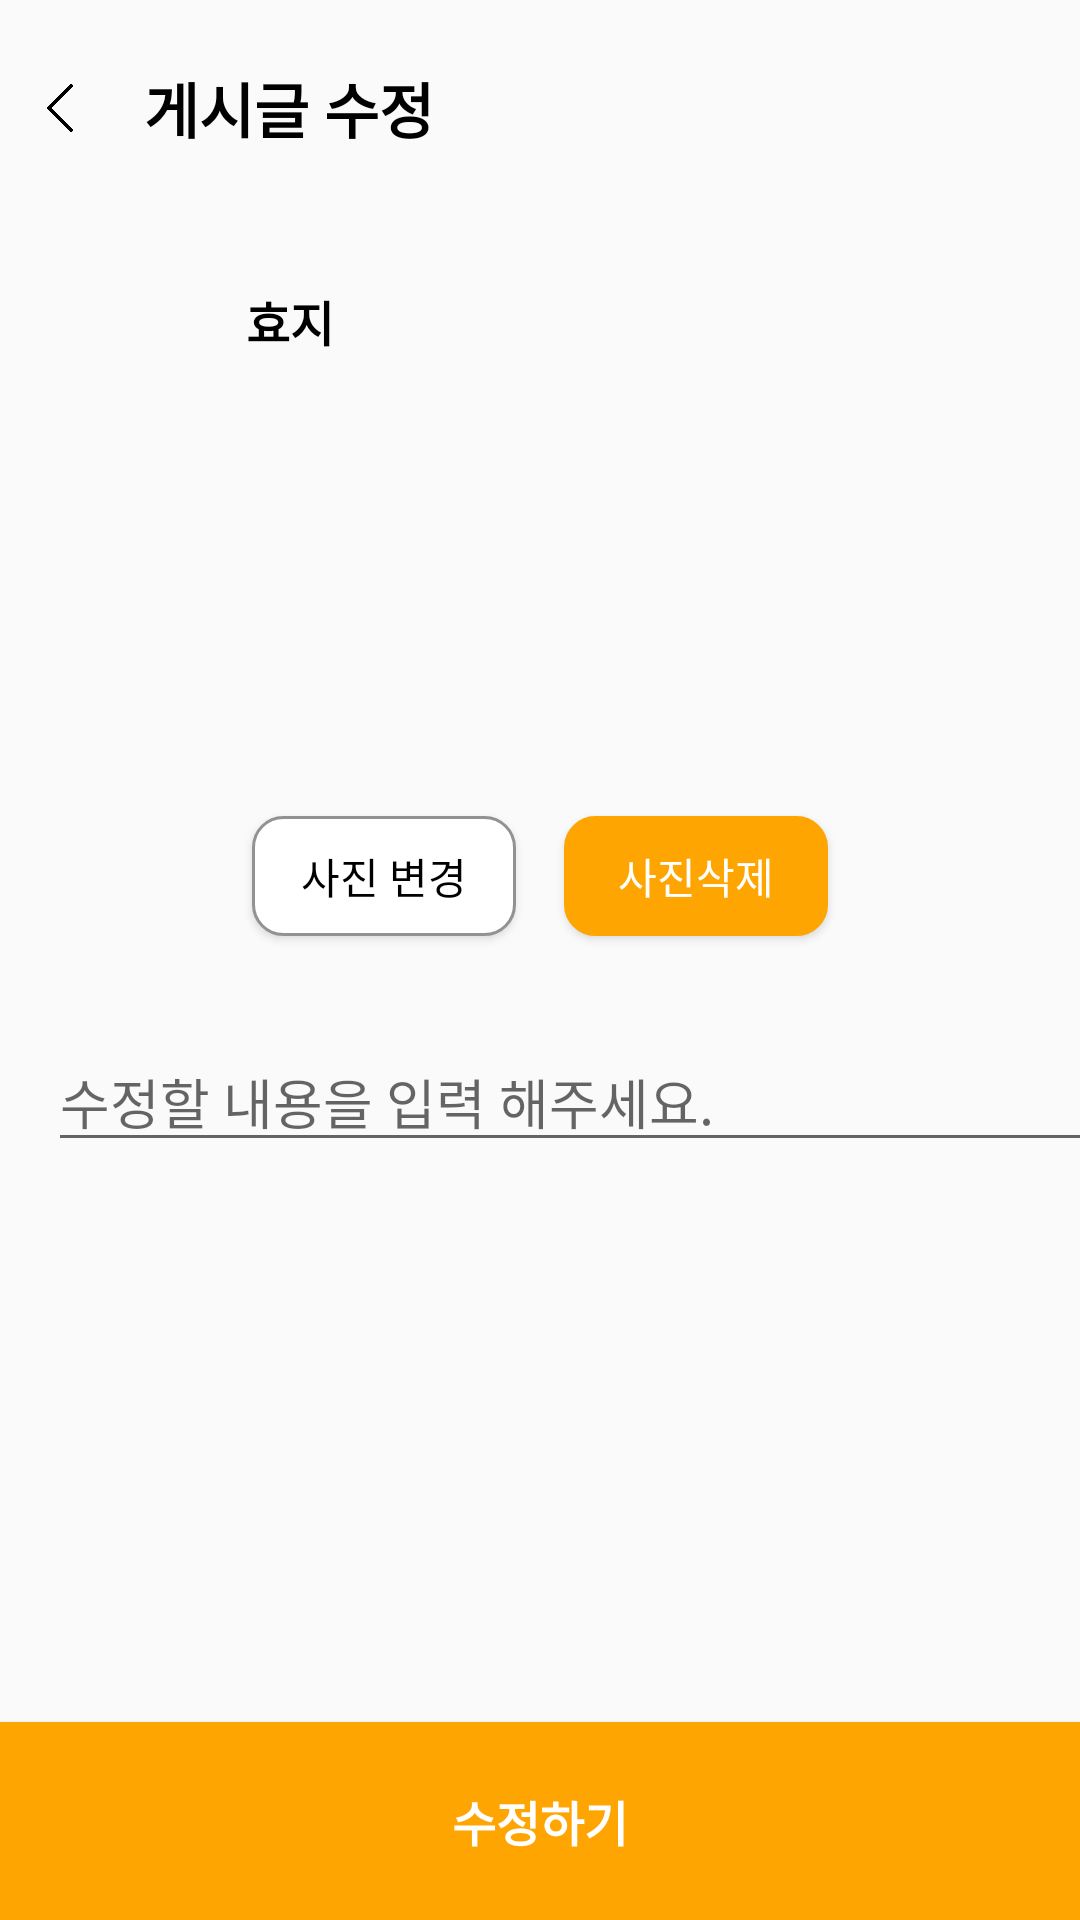

Named icons in this screenshot (1080 × 1920) and their centers, point (x, y):
back: point (60, 108)
